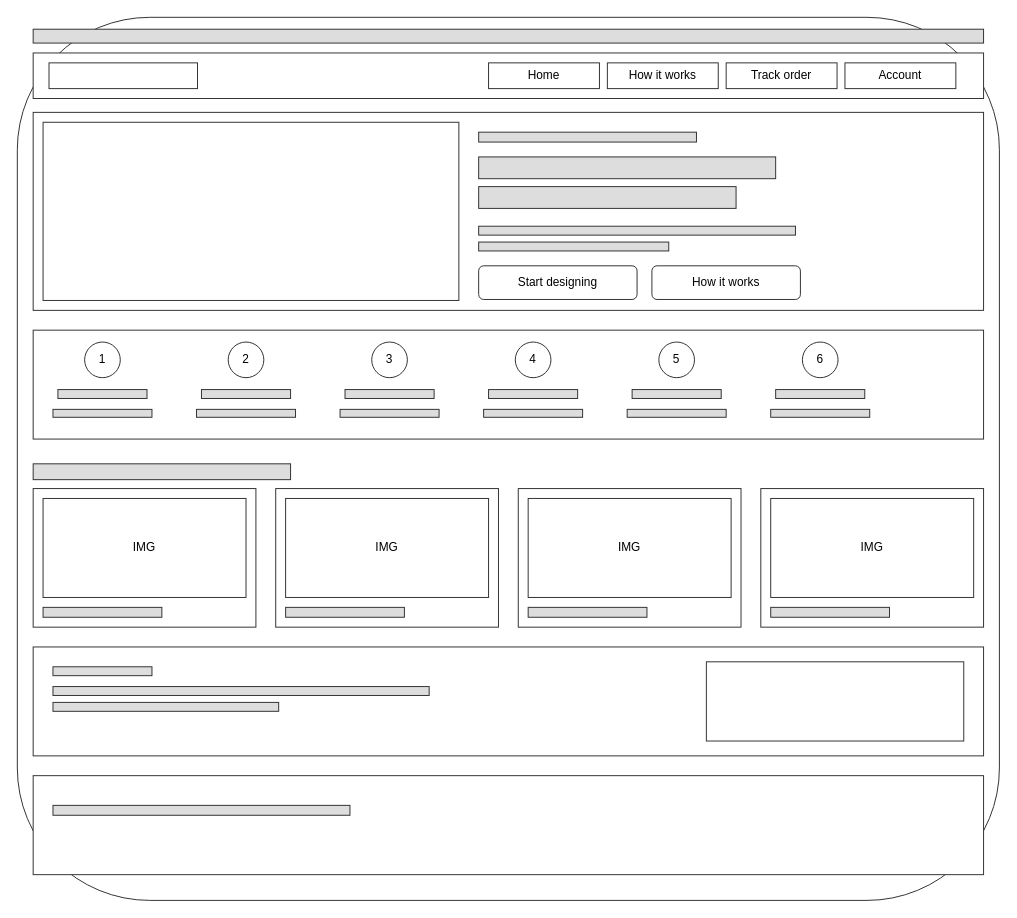
The diagram is 1017 pixels wide and 918 high, and some of its shapes have lost their labels. Here are the shapes that lost their labels. From the top down, the centre of each, then its label:
At point 123,75: "THREADCRAFT".
At point 250,210: "HERO IMAGE".
At point 834,701: "AI MOCKUP PREVIEW".
